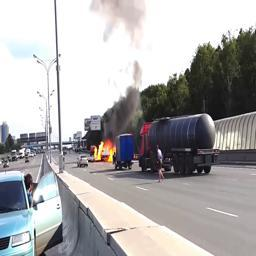fire: (93, 141, 115, 163)
